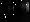person: (23, 3, 29, 13), (9, 4, 14, 14)
